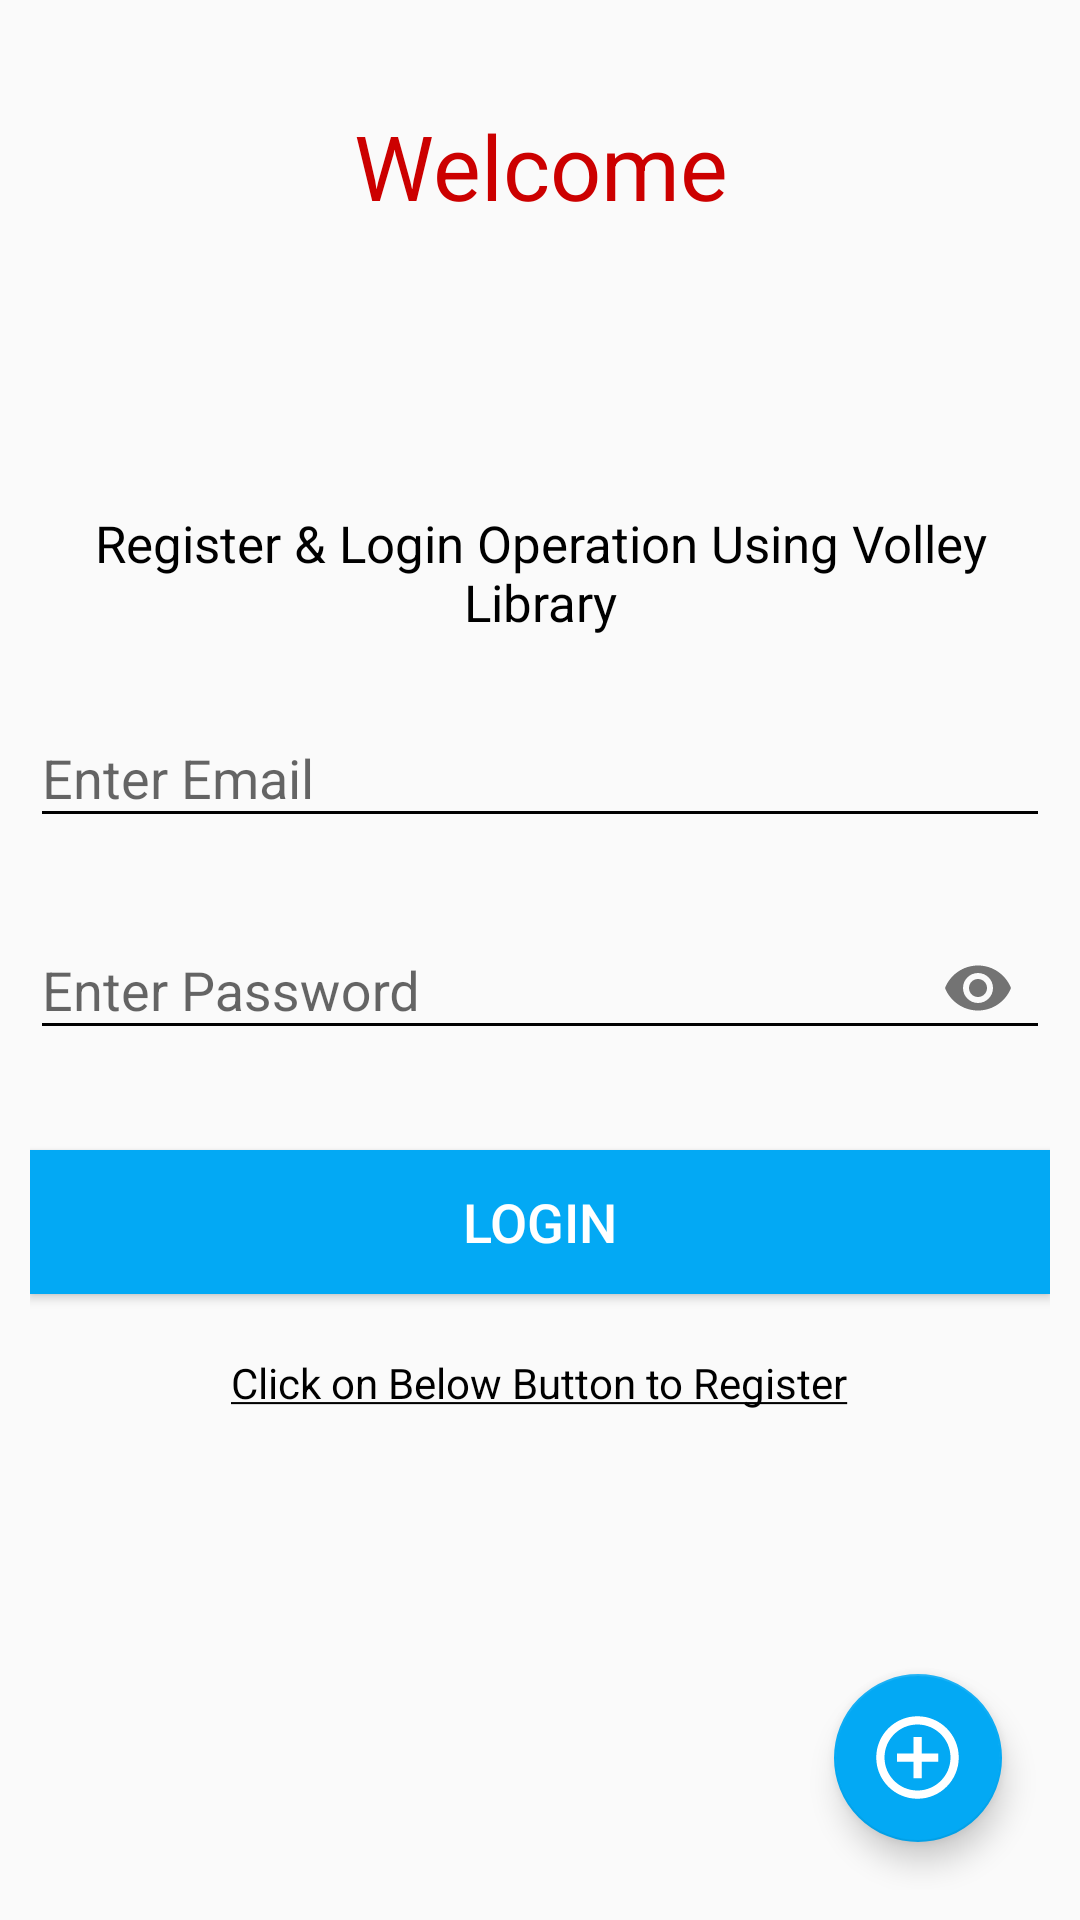

Screen size 1080×1920. Icon name, then its box in pixels as (x1, y1, x2, y2):
insert: (834, 1674, 1002, 1842)
